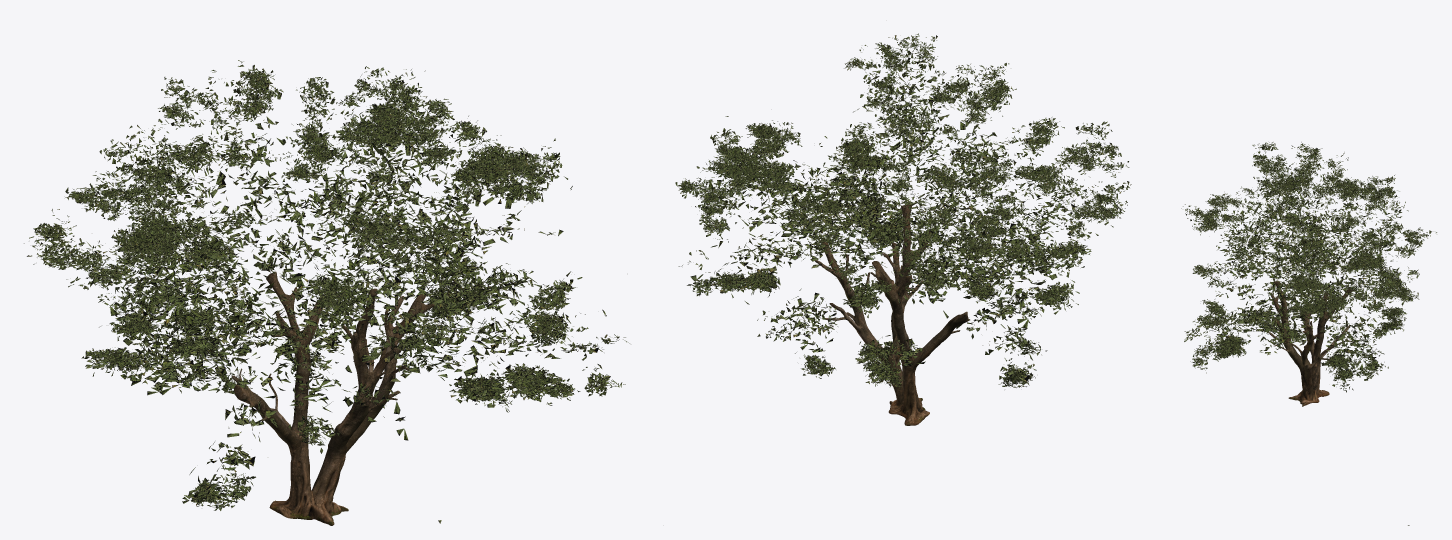
Rendered from jacaranda_tree_lite.glb.
The picture shows the model from 3 angles, left to right: view 1: azimuth 30°, elevation 25°; view 2: azimuth 150°, elevation 25°; view 3: azimuth 270°, elevation 25°; orthographic projection. The views are drawn at different scales.
Visible parts, largest first — view 1: jacaranda_tree_LOD0; view 2: jacaranda_tree_LOD0; view 3: jacaranda_tree_LOD0.
Boxes of the visible parts, x1=… form: jacaranda_tree_LOD0: x1=24, y1=60, x2=629, y2=525; jacaranda_tree_LOD0: x1=675, y1=33, x2=1131, y2=425; jacaranda_tree_LOD0: x1=1181, y1=142, x2=1436, y2=525.
Size of the model in its own units: 25.39 by 31.03 by 19.2.
Materials: 2 (2 with a texture image).
